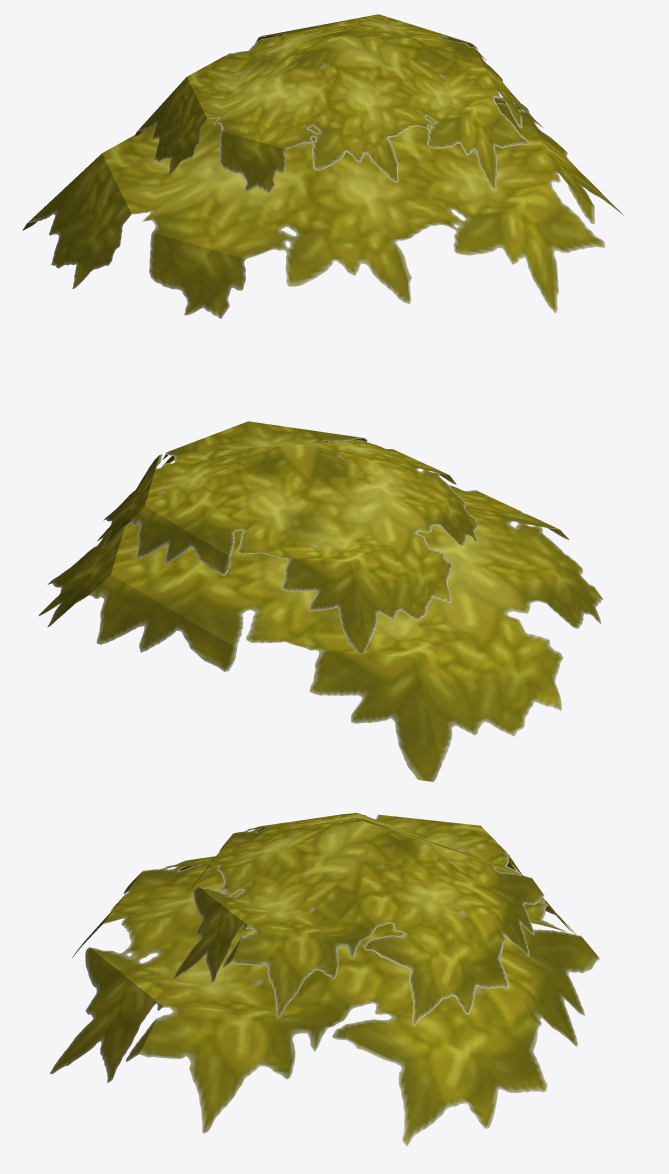
File: Bush_001.fbx
3 views of the same model, one above another, from view 1: azimuth 30°, elevation 25°; view 2: azimuth 150°, elevation 25°; view 3: azimuth 270°, elevation 25° (orthographic). The views are drawn at different scales.
Visible parts, largest first — view 1: Plane587; view 2: Plane587; view 3: Plane587.
Boxes of the visible parts, <box> form: Plane587: <box>22,14,623,318</box>; Plane587: <box>38,421,603,781</box>; Plane587: <box>50,812,599,1146</box>.
Size of the model in its own units: 202 by 75.87 by 188.
